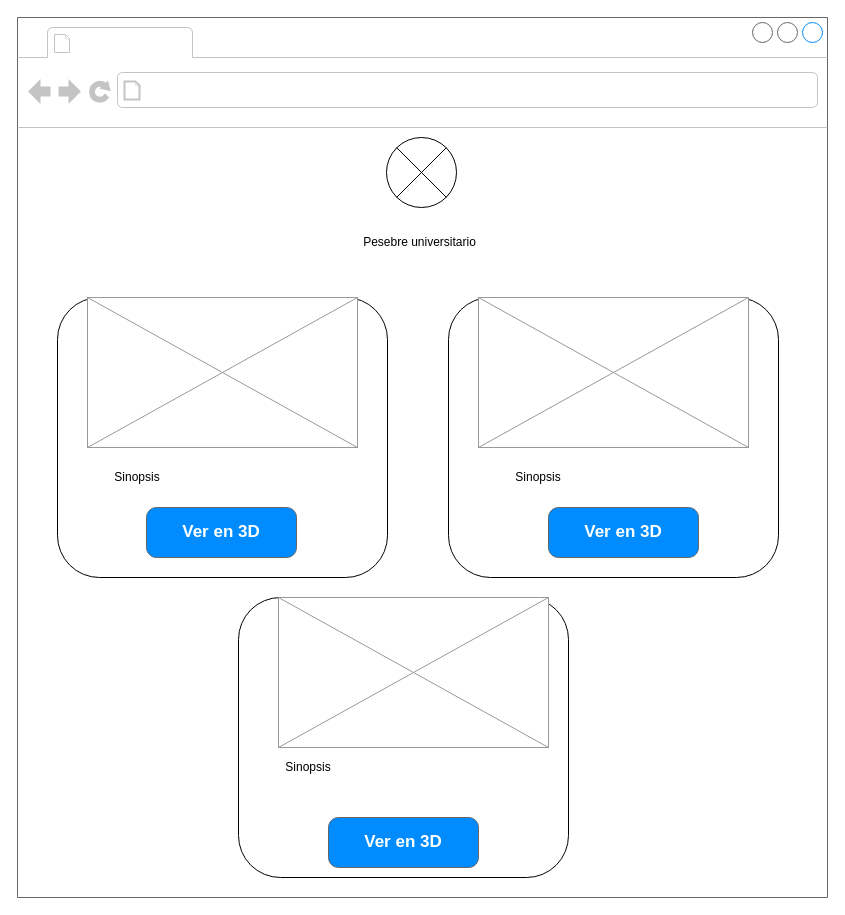
Some shapes in this 845 by 915 pixel diagram are drawn without their labels. Each missing label, with the centre of its shape:
http://localhost:8081/Pesebre/galeria.jsp: pixel 272 90
Page 1: pixel 132 42
